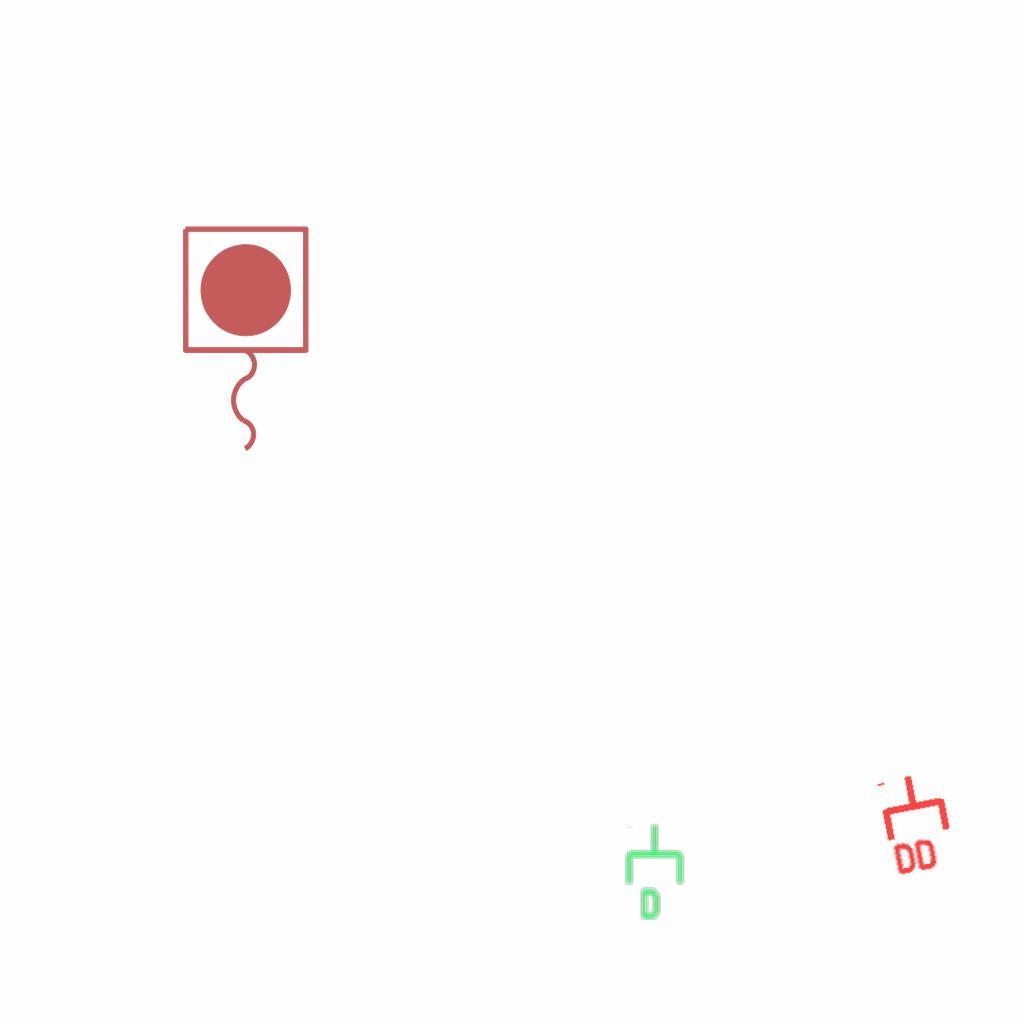Datenanschluss_einfach: (622, 822, 691, 922)
Datenanschluss_zweifach: (874, 766, 963, 881)
Zugtaster: (172, 218, 316, 462)
